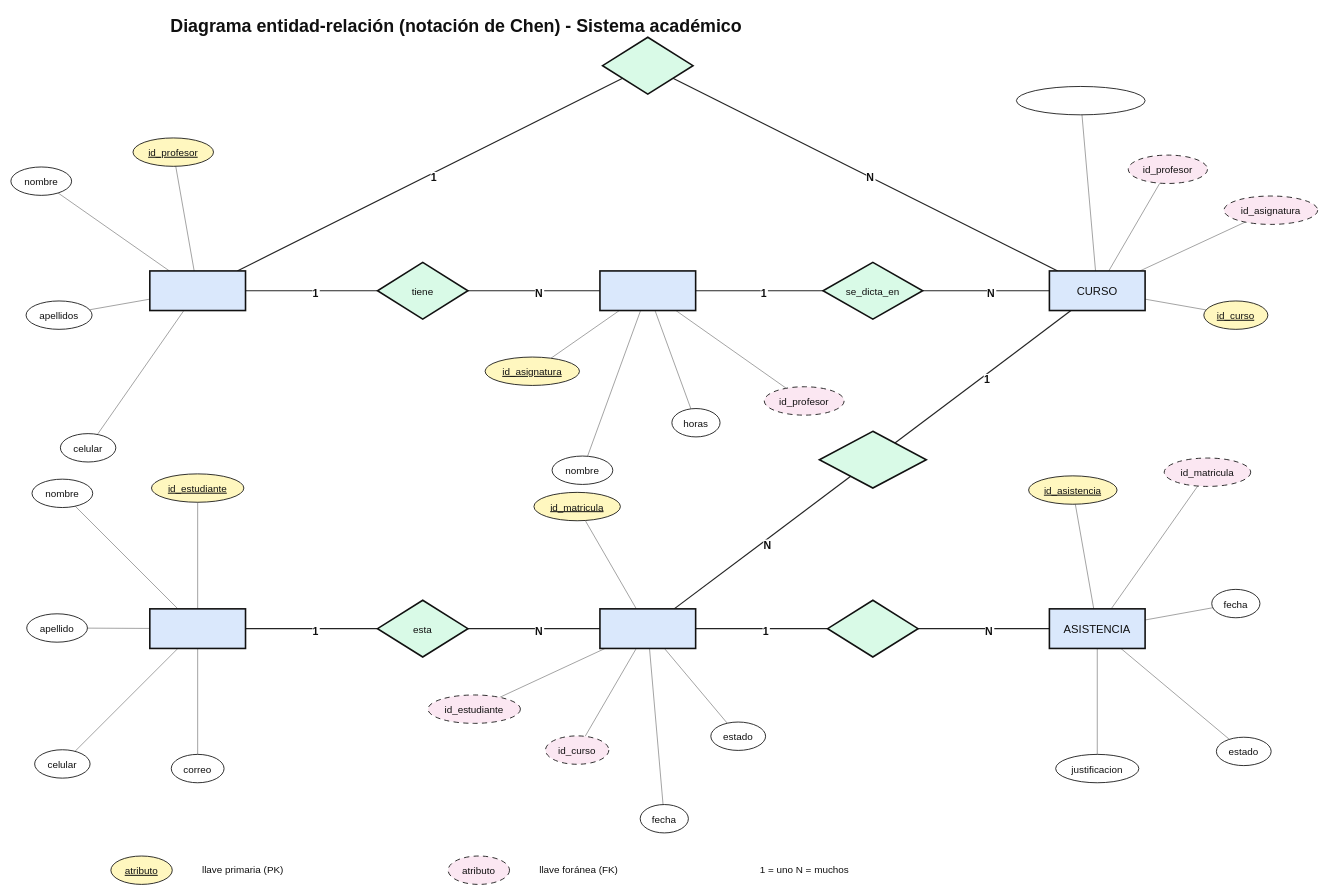
Some shapes in this 1329 by 895 pixel diagram are drawn without their labels. Here are the shapes that lost their labels. From the top down, the centre of each, then its label:
(x=647, y=65): imparte
(x=1080, y=100): periodo_academico
(x=197, y=290): PROFESOR
(x=647, y=290): ASIGNATURA
(x=872, y=459): pertenece_a
(x=197, y=628): ESTUDIANTE
(x=647, y=628): MATRICULA
(x=873, y=628): registra
